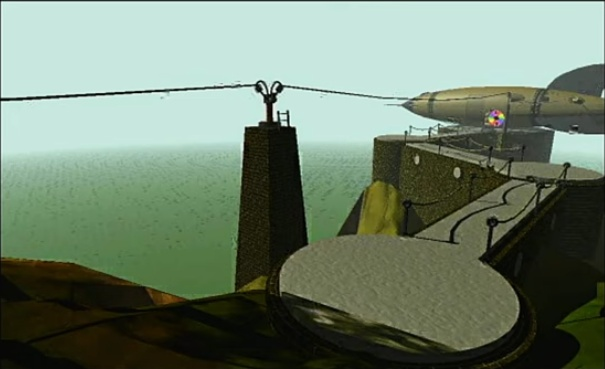Waiting: (485, 107, 508, 128)
